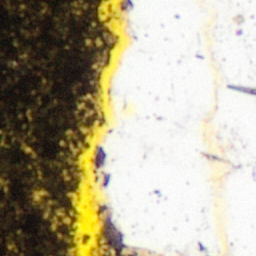cement_matrix: (0, 0, 111, 255), (103, 226, 124, 255)
cracks: (71, 0, 141, 255)
gravel_crushed_stones: (99, 0, 255, 255)
